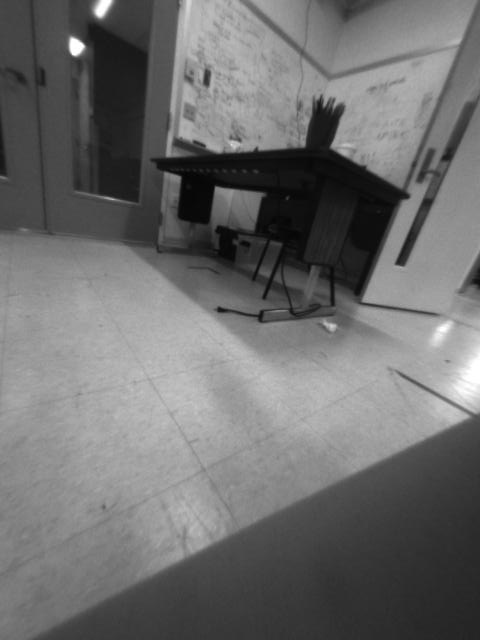door_handle: (2, 63, 32, 86)
